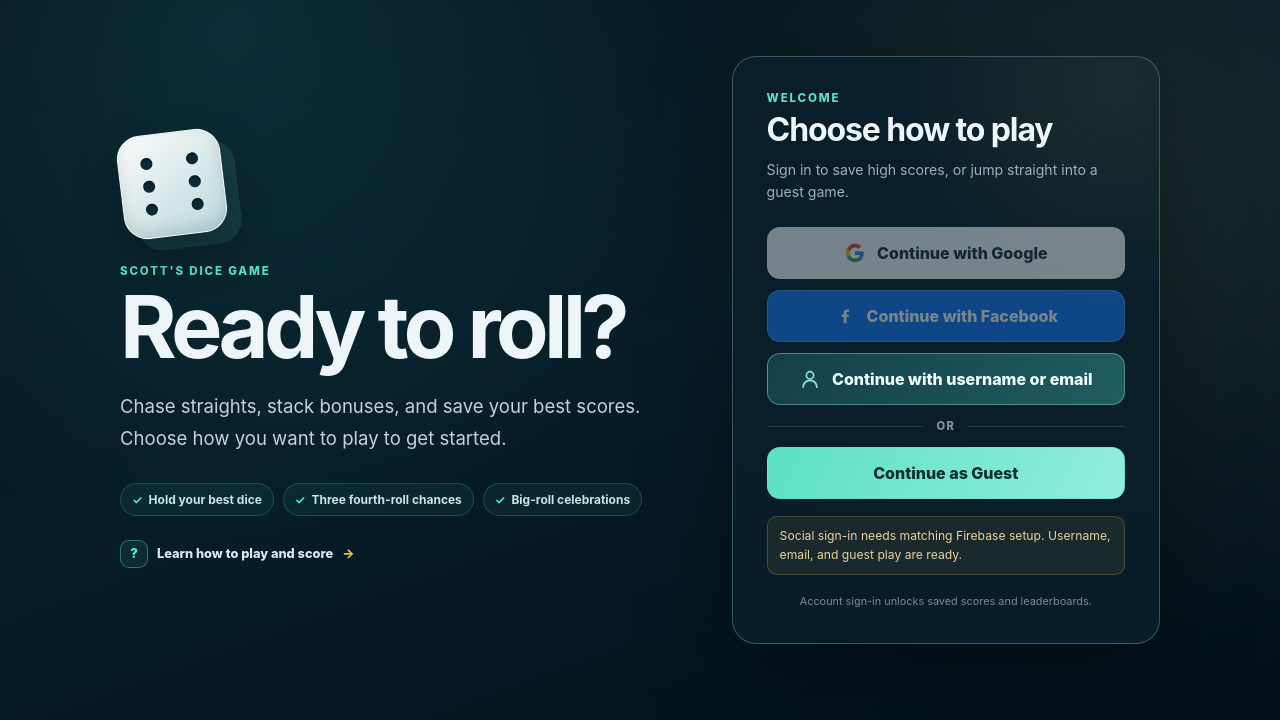
Scenario: guest game recovery › uses Classic when a saved theme is disabled while retaining guest progress
Step 1. Click the button "Continue as Guest" → (946, 473), box [767, 447, 1125, 499]
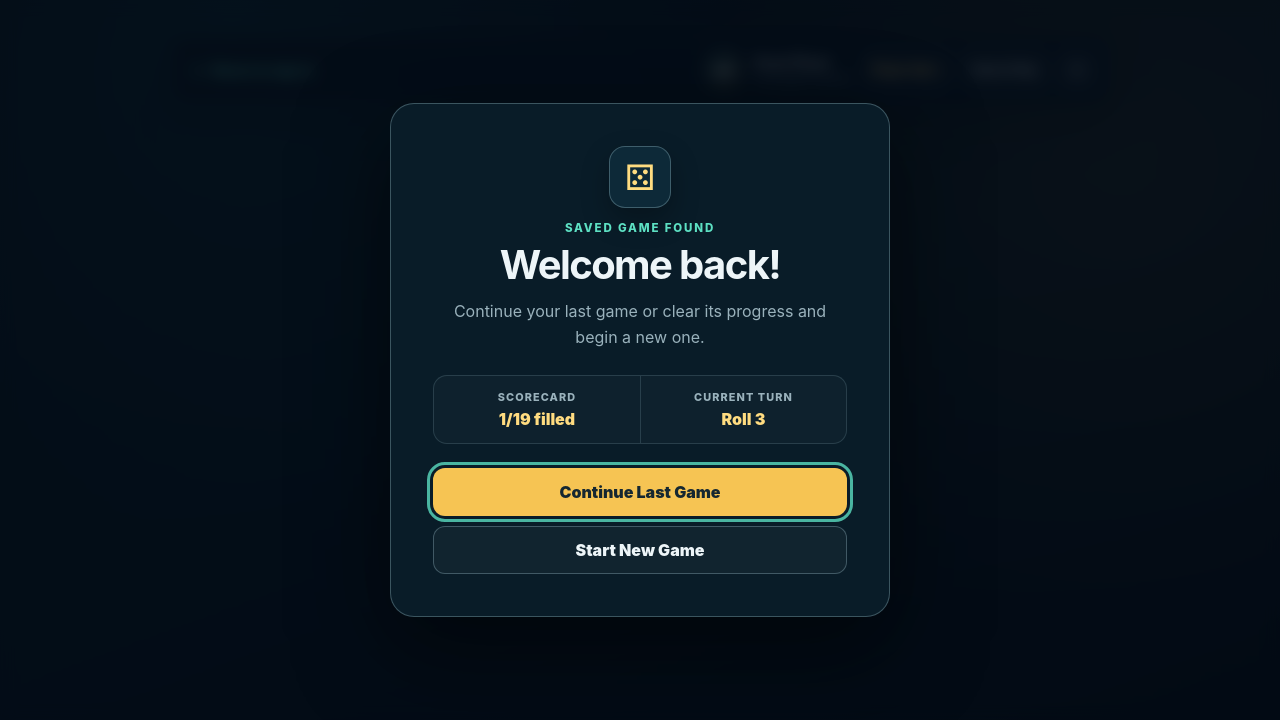
Check: the dialog "Welcome back!" is shown, box [390, 103, 890, 617]
